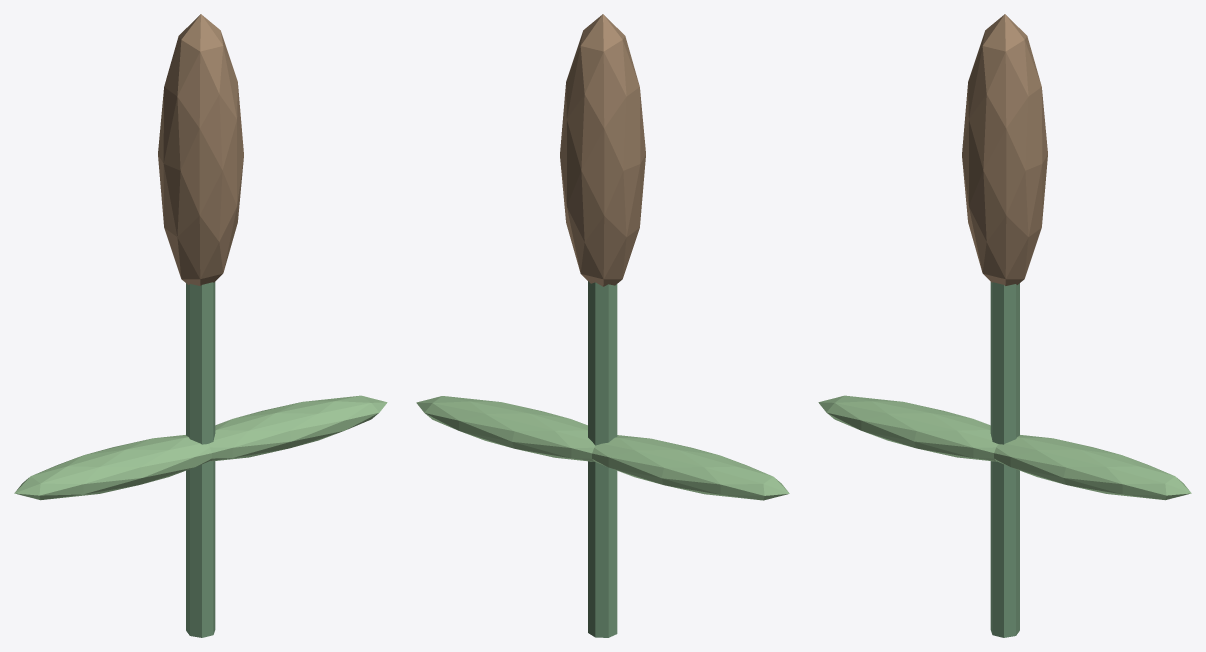
File: reed.glb
3 views of the same model, side by side, from view 1: azimuth 30°, elevation 25°; view 2: azimuth 150°, elevation 25°; view 3: azimuth 330°, elevation 25° (orthographic).
Visible parts, largest first — view 1: SeedHead, Stem, Leaf_-1, Leaf_1; view 2: SeedHead, Stem, Leaf_-1, Leaf_1; view 3: SeedHead, Stem, Leaf_1, Leaf_-1.
Boxes of the visible parts, <box> form: SeedHead: <box>158,14,243,285</box>; Stem: <box>186,282,215,637</box>; Leaf_-1: <box>14,435,211,500</box>; Leaf_1: <box>208,395,387,461</box>; SeedHead: <box>560,14,645,286</box>; Stem: <box>588,281,617,637</box>; Leaf_-1: <box>592,435,789,500</box>; Leaf_1: <box>416,396,595,461</box>; SeedHead: <box>962,14,1047,285</box>; Stem: <box>990,282,1019,637</box>; Leaf_1: <box>994,435,1191,500</box>; Leaf_-1: <box>818,395,997,461</box>.
Bounding box in the file's own units: 1 × 1.58 × 0.2.
